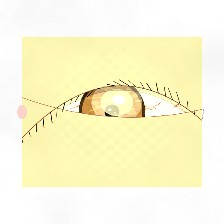corneal_ulcer: (90, 81, 143, 124)
